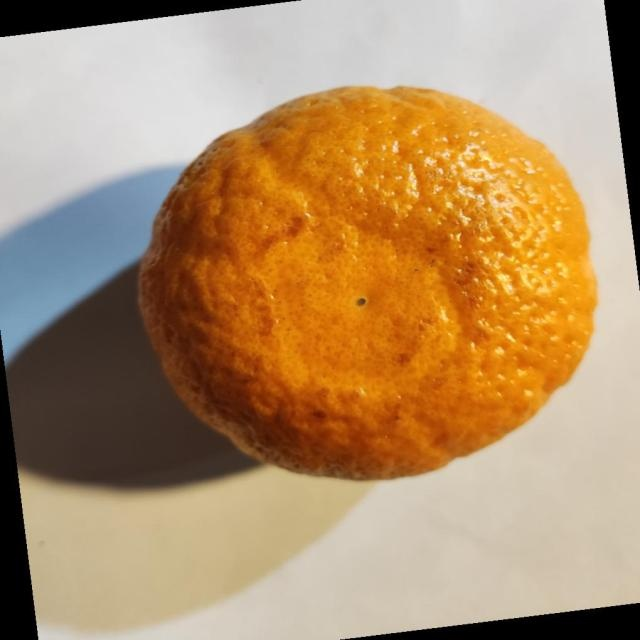agrume: (137, 83, 599, 482)
